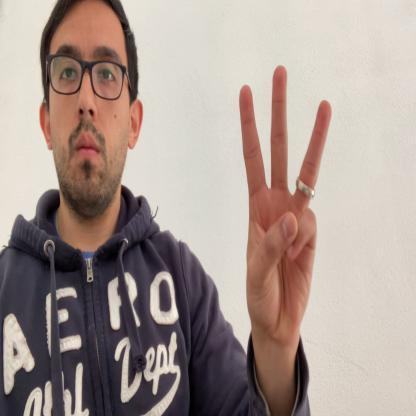W: (238, 65, 331, 354)
